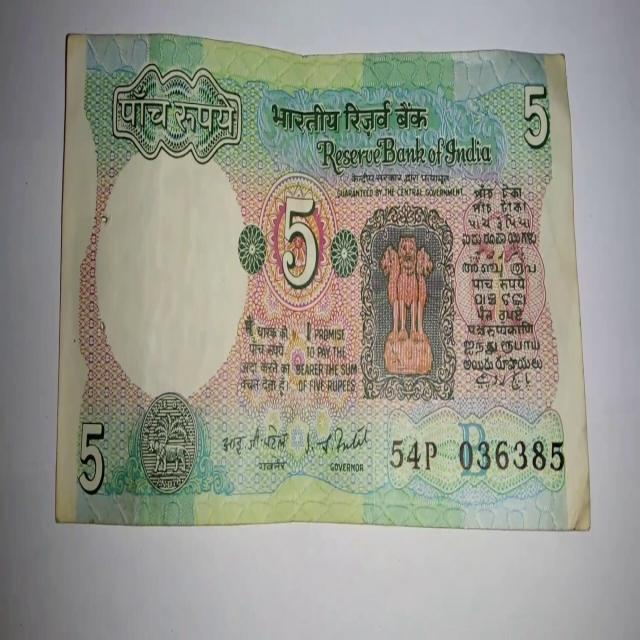5IndianRupees: (51, 33, 578, 518)
